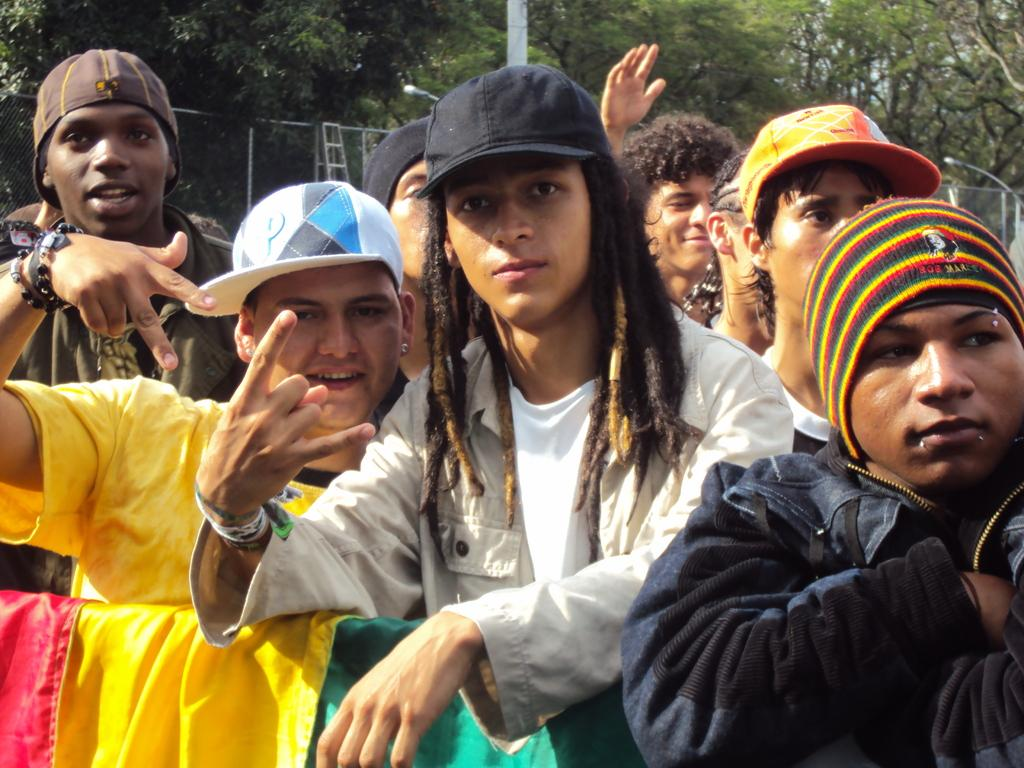Hat: (184, 179, 401, 319), (413, 62, 610, 200), (32, 48, 181, 208)
